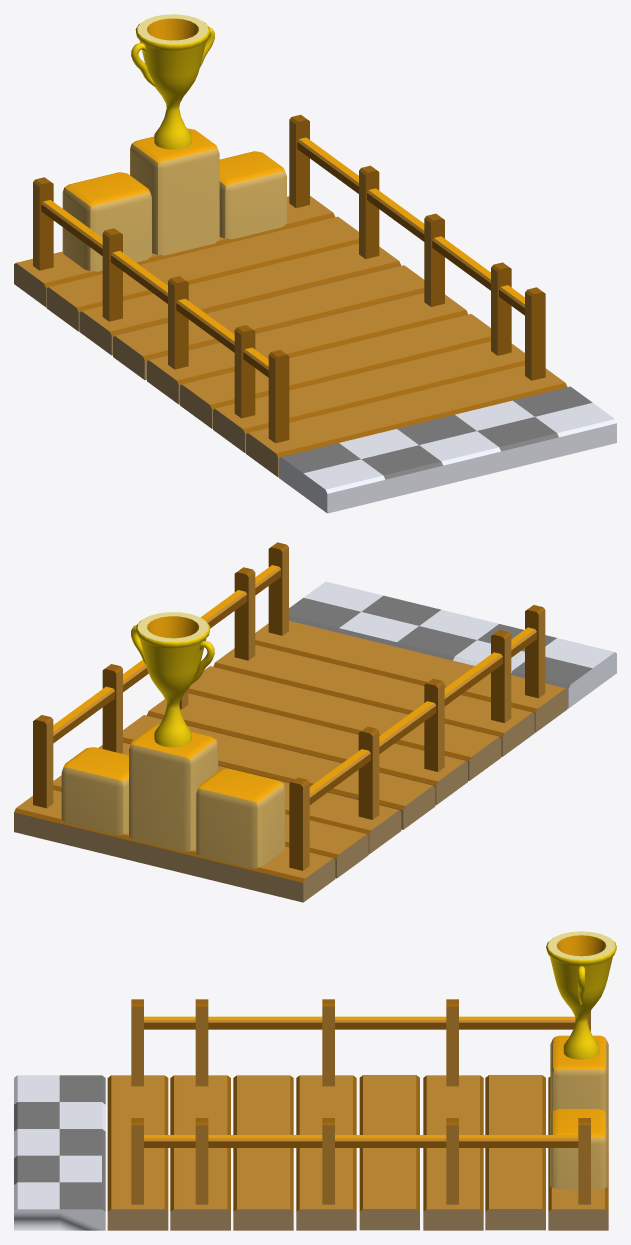
File: bridge_fin.fbx
The picture shows the model from 3 angles, top to bottom: view 1: azimuth 30°, elevation 25°; view 2: azimuth 150°, elevation 25°; view 3: azimuth 270°, elevation 25°; orthographic projection. The views are drawn at different scales.
Parts seen in each view (by area): view 1: bridge_fin; view 2: bridge_fin; view 3: bridge_fin.
Boxes of the visible parts, <box> form: bridge_fin: <box>14,14,616,513</box>; bridge_fin: <box>14,542,616,902</box>; bridge_fin: <box>14,931,616,1230</box>.
Bounding box in the file's own units: 50.41 × 38.17 × 95.72.
